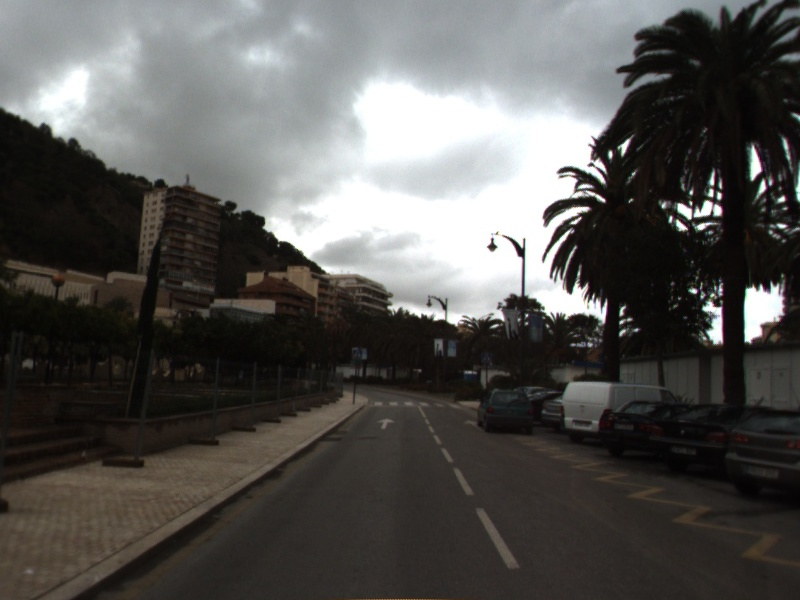STRAIGHT: (462, 418, 487, 434), (374, 416, 398, 431)
